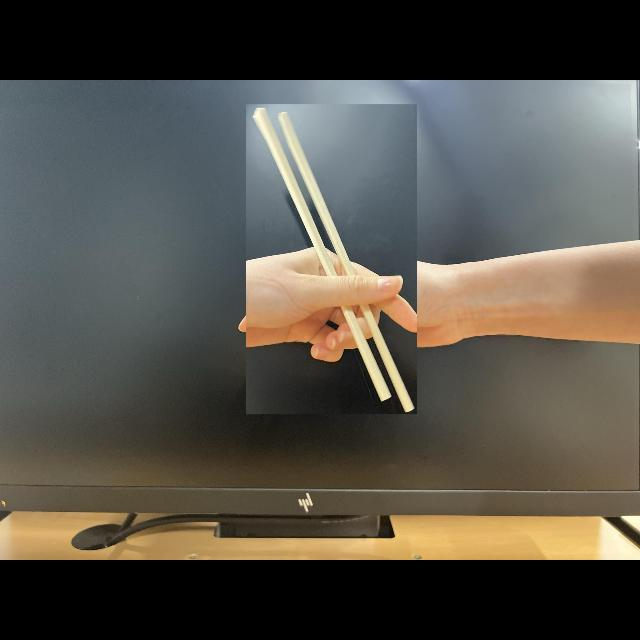stick: (247, 104, 417, 414)
